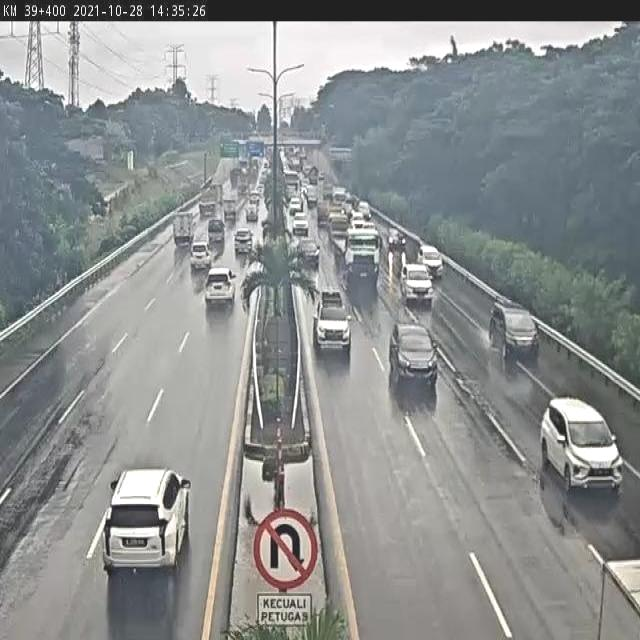Car: (101, 470, 192, 567), (538, 397, 624, 492), (486, 298, 541, 368), (390, 323, 437, 381), (313, 292, 349, 350), (398, 264, 436, 304), (203, 266, 237, 306), (414, 244, 444, 276), (298, 238, 322, 267), (190, 244, 210, 269), (234, 230, 254, 254), (208, 220, 226, 242), (293, 211, 310, 232), (290, 197, 304, 214), (245, 204, 258, 221)
Truck: (591, 554, 640, 640), (332, 212, 378, 281), (172, 214, 195, 245)
